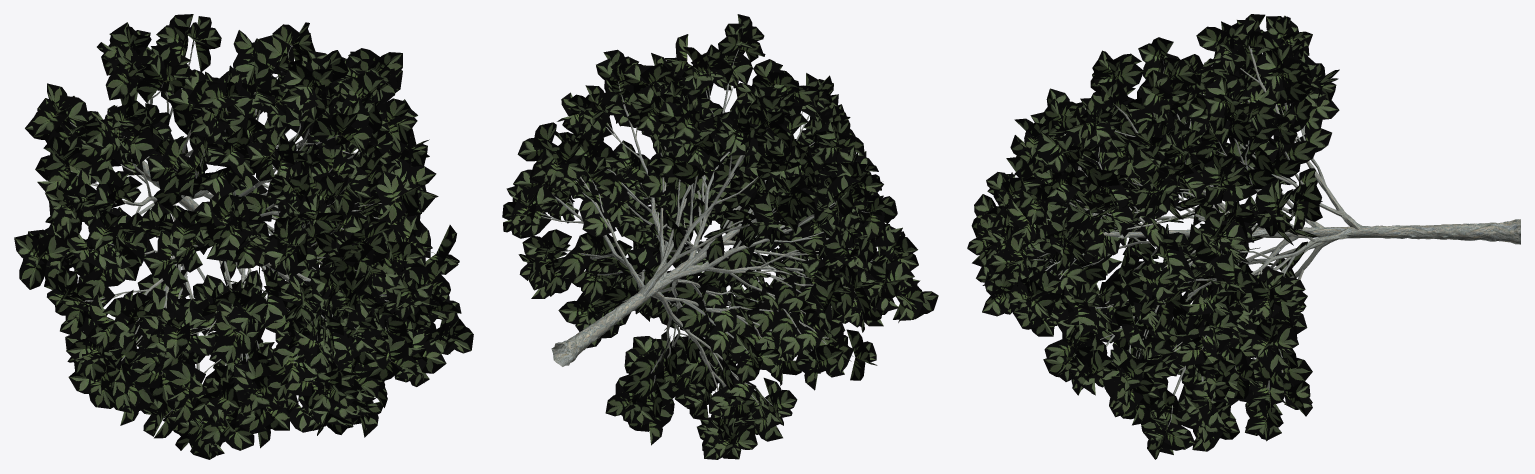
3 renders of one model, left to right at view 1: azimuth 30°, elevation 25°; view 2: azimuth 150°, elevation 25°; view 3: azimuth 270°, elevation 25°, orthographic. The views are drawn at different scales.
Visible parts, largest first — view 1: BL05y; view 2: BL05y; view 3: BL05y.
Boxes of the visible parts, x1,y1,x2,y2 form: BL05y: (14, 14, 473, 459); BL05y: (502, 14, 938, 459); BL05y: (967, 14, 1520, 459).
Size of the model in its own units: 30.17 by 29.86 by 38.16.
2 materials, 2 textured.
